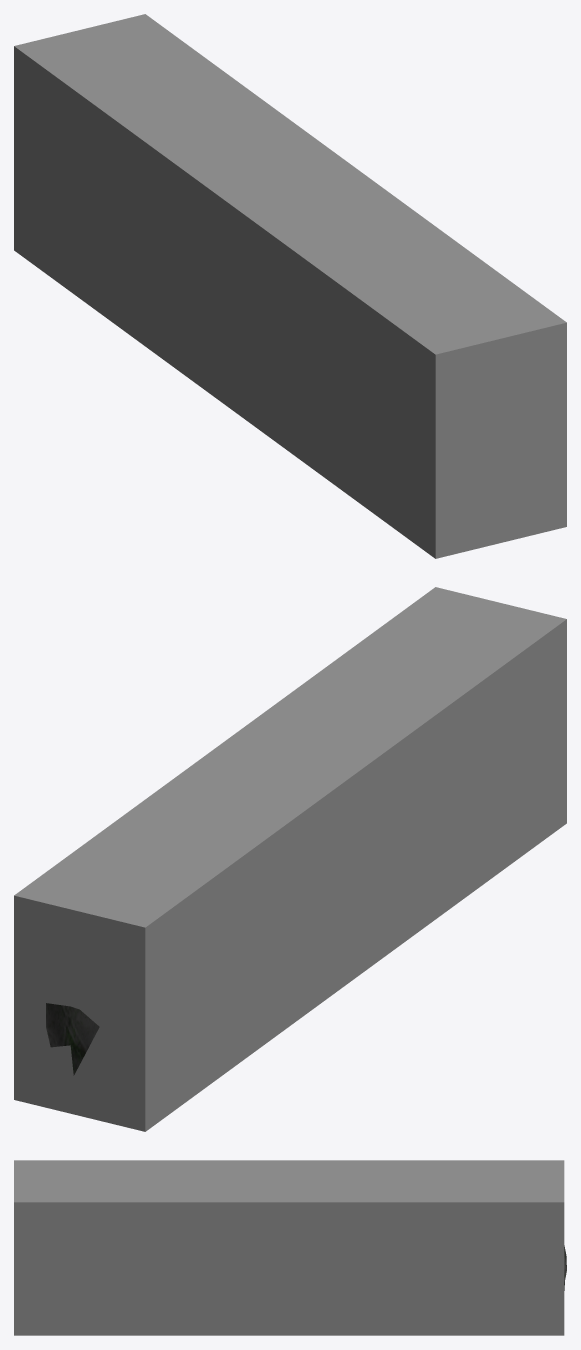
The model's file is Scene_Rock_SuiShiTi_8.fbx.
3 renders of one model, top to bottom at view 1: azimuth 30°, elevation 25°; view 2: azimuth 150°, elevation 25°; view 3: azimuth 270°, elevation 25°, orthographic. The views are drawn at different scales.
Visible parts, largest first — view 1: Scene_Rock_SuiShiTi_8_Xzm; view 2: Scene_Rock_SuiShiTi_8_Xzm, Scene_Rock_SuiShiTi_8; view 3: Scene_Rock_SuiShiTi_8_Xzm.
Part boxes in pixels (x1,y1,x2,y2): Scene_Rock_SuiShiTi_8_Xzm: [14, 14, 566, 558]; Scene_Rock_SuiShiTi_8_Xzm: [14, 587, 566, 1131]; Scene_Rock_SuiShiTi_8: [46, 1003, 99, 1075]; Scene_Rock_SuiShiTi_8_Xzm: [14, 1160, 564, 1335].
Size of the model in its own units: 64.32 by 95.75 by 359.
